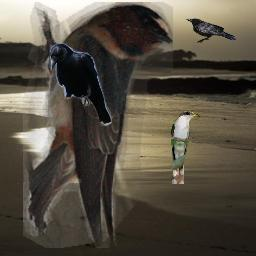Crow: (49, 43, 112, 127), (186, 18, 236, 43)
Cuckoo: (170, 110, 200, 184)
Swallow: (23, 2, 173, 248)
